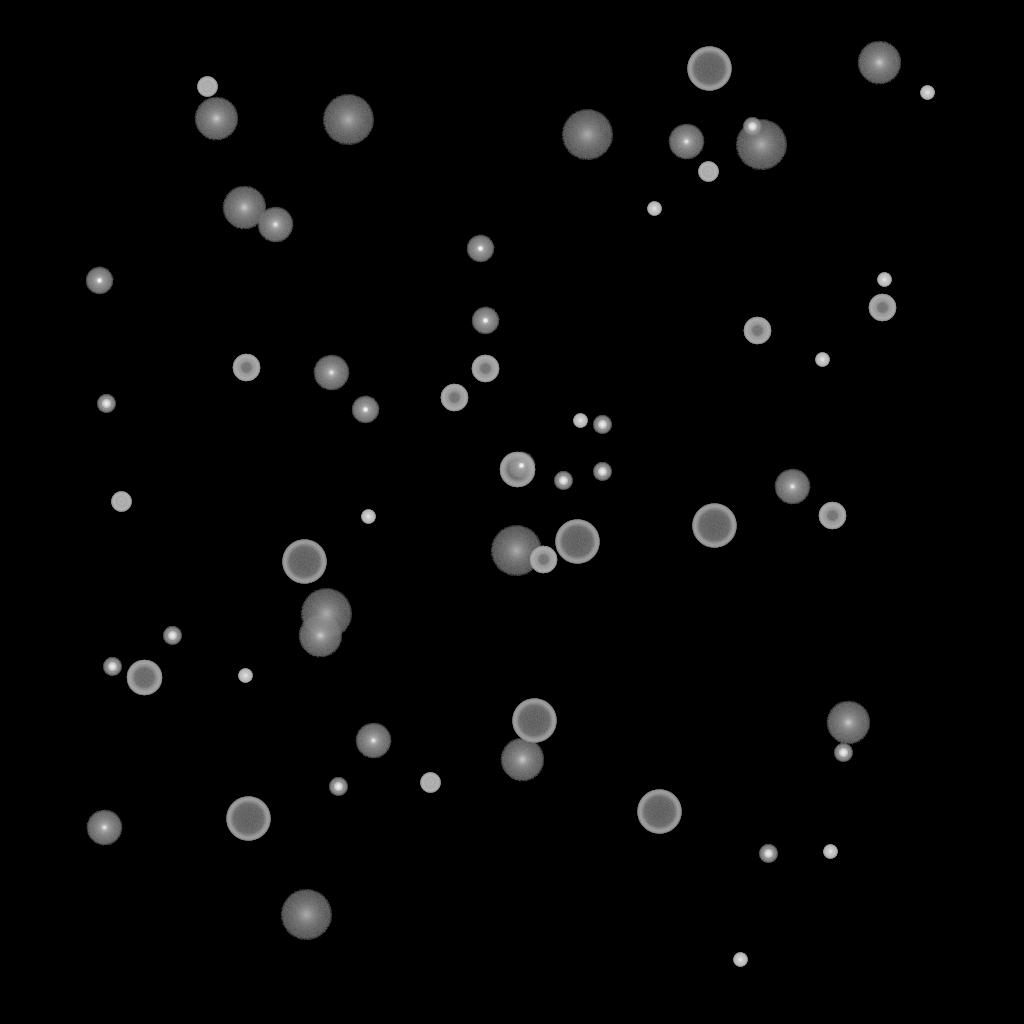depth:-10: (466, 235, 494, 263), (507, 452, 535, 480), (351, 396, 379, 424), (85, 267, 113, 295), (471, 307, 499, 335)
depth:-20: (593, 416, 611, 434), (554, 472, 572, 490), (743, 118, 761, 136), (103, 658, 121, 676), (593, 463, 611, 481), (834, 744, 852, 762), (759, 845, 777, 863), (163, 627, 181, 645), (97, 395, 115, 413), (329, 778, 347, 796)
depth:-30: (361, 510, 375, 524), (815, 353, 829, 367), (920, 86, 934, 100), (647, 202, 661, 216), (823, 845, 837, 859), (877, 273, 891, 287), (733, 953, 747, 967), (573, 414, 587, 428), (238, 669, 252, 683)
depth:-40: (111, 492, 131, 512), (420, 773, 440, 793), (698, 162, 718, 182), (197, 77, 217, 97)
depth:-50: (743, 317, 771, 345), (440, 384, 468, 412), (471, 355, 499, 383), (818, 502, 846, 530), (868, 294, 896, 322), (232, 354, 260, 382), (529, 546, 557, 574)
depth:-60: (499, 452, 535, 488), (126, 660, 162, 696)
depth:-70: (282, 540, 326, 584), (692, 504, 736, 548), (226, 797, 270, 841), (637, 790, 681, 834), (555, 520, 599, 564), (512, 699, 556, 743), (687, 47, 731, 91)
depth:0: (86, 810, 122, 846), (313, 355, 349, 391), (774, 469, 810, 505), (668, 124, 704, 160), (257, 207, 293, 243), (355, 723, 391, 759)
depth:10: (194, 97, 238, 141), (298, 614, 342, 658), (826, 701, 870, 745), (500, 738, 544, 782), (222, 186, 266, 230), (857, 41, 901, 85)
depth:20: (735, 120, 787, 170), (561, 110, 613, 160), (280, 890, 332, 940), (322, 95, 374, 145), (490, 526, 542, 576), (300, 589, 352, 639)
